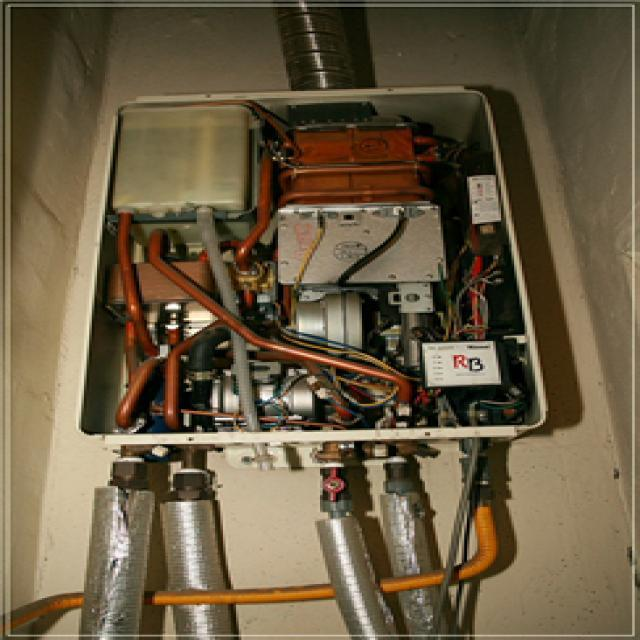Boiler: (115, 83, 533, 424)
